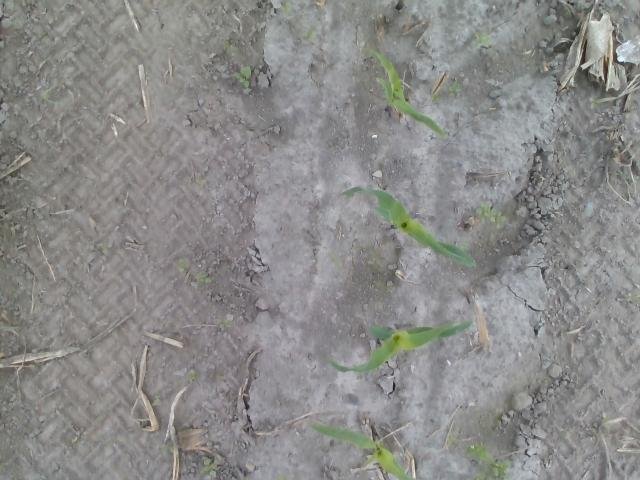Maize: (340, 184, 476, 266), (360, 44, 449, 138), (328, 319, 472, 374), (310, 418, 418, 480)
Weeds: (465, 441, 512, 480), (475, 200, 508, 228), (233, 66, 251, 86), (201, 458, 217, 477), (41, 88, 60, 104), (472, 31, 489, 48), (193, 271, 211, 287), (71, 428, 89, 442), (448, 80, 462, 96), (303, 25, 316, 40), (589, 96, 604, 108), (222, 40, 238, 51), (602, 412, 612, 429), (216, 318, 232, 328), (328, 253, 339, 267), (626, 292, 640, 302), (280, 3, 291, 14), (446, 433, 456, 445), (187, 369, 197, 381), (178, 258, 186, 273), (162, 444, 175, 453), (278, 474, 294, 480), (460, 241, 470, 250), (431, 93, 441, 100), (153, 396, 161, 404), (38, 30, 46, 38), (0, 464, 6, 470), (28, 363, 35, 368)
